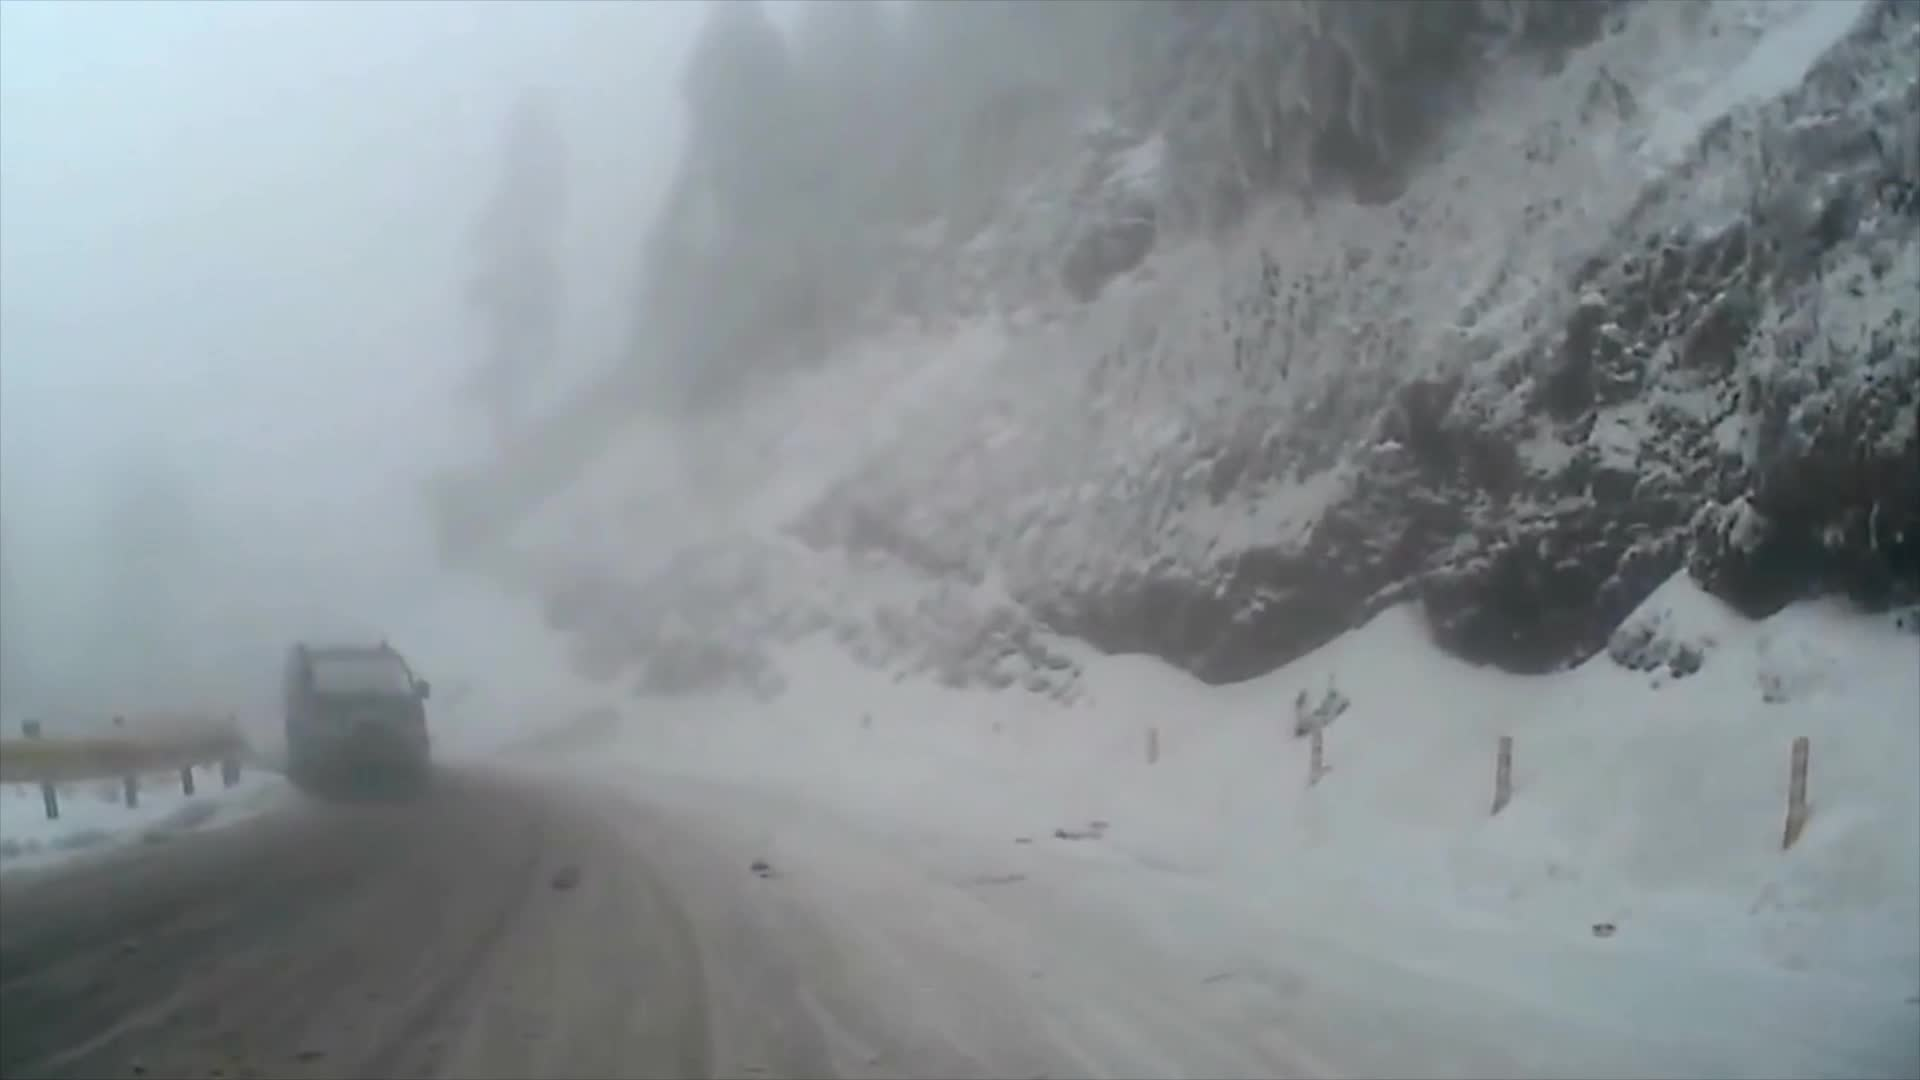vehicle: (281, 637, 430, 798)
